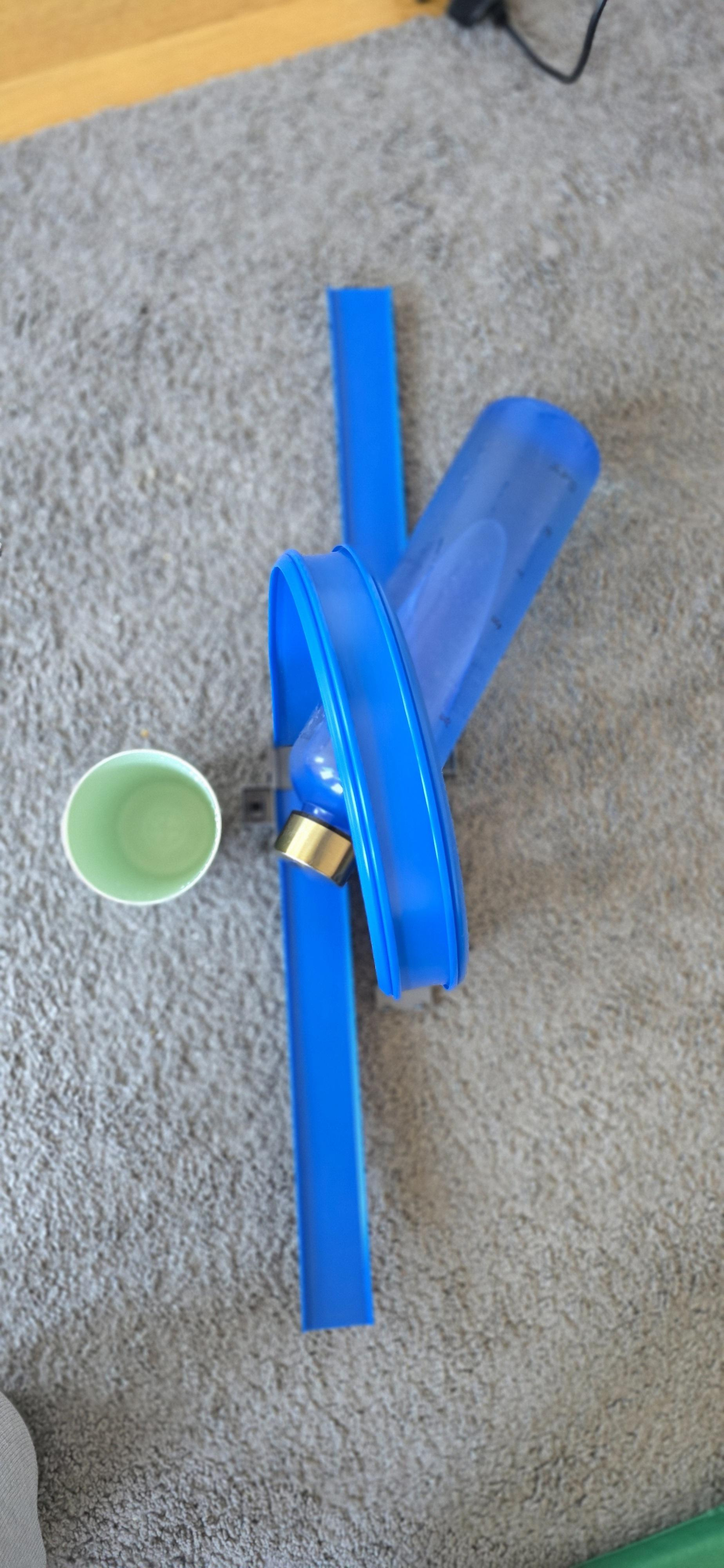bottle: (285, 322, 611, 878)
